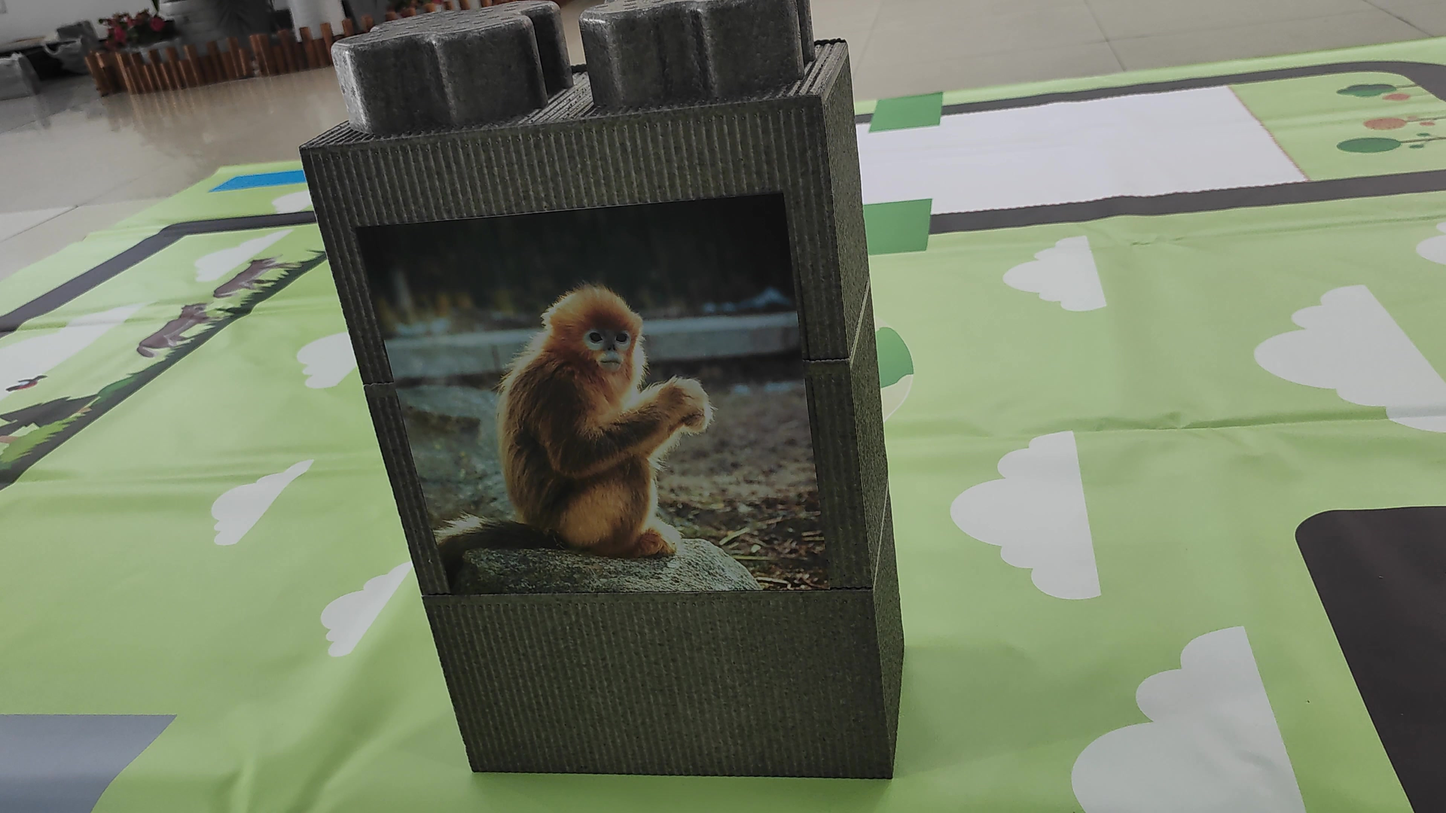monkey: (430, 264, 755, 588)
